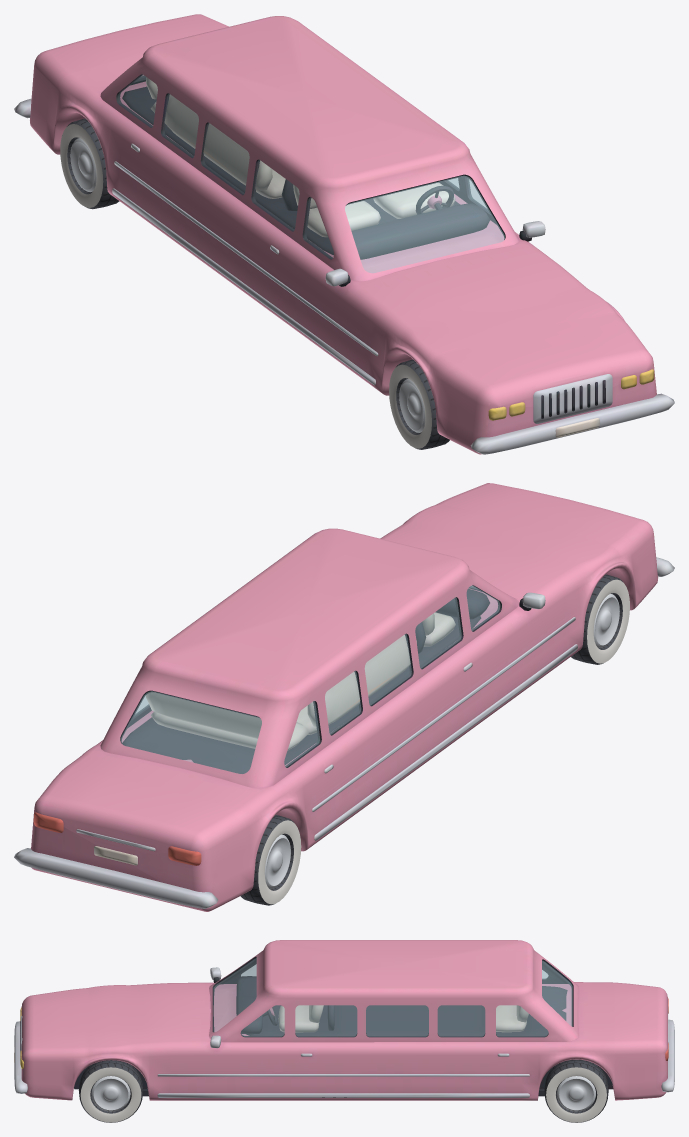
The model's file is limousine.glb.
3 renders of one model, top to bottom at view 1: azimuth 30°, elevation 25°; view 2: azimuth 150°, elevation 25°; view 3: azimuth 270°, elevation 25°, orthographic. The views are drawn at different scales.
Visible parts, largest first — view 1: limousine_body, limousine_windows, limousine_wheel_fr, limousine_wheel_rr; view 2: limousine_body, limousine_windows, limousine_wheel_rr, limousine_wheel_fr; view 3: limousine_body, limousine_windows, limousine_wheel_rl, limousine_wheel_fl.
Part boxes in pixels (<box>): limousine_body: <box>14,14,674,454</box>; limousine_windows: <box>118,74,504,272</box>; limousine_wheel_fr: <box>389,359,449,449</box>; limousine_wheel_rr: <box>60,118,119,209</box>; limousine_body: <box>14,483,674,911</box>; limousine_windows: <box>121,585,499,773</box>; limousine_wheel_rr: <box>240,815,301,905</box>; limousine_wheel_fr: <box>571,574,629,664</box>; limousine_body: <box>14,940,674,1100</box>; limousine_windows: <box>214,958,572,1036</box>; limousine_wheel_rl: <box>544,1059,608,1122</box>; limousine_wheel_fl: <box>78,1060,143,1122</box>.
Size of the model in its own units: 1.98 by 1.55 by 7.38.
6 materials, 2 textured.
